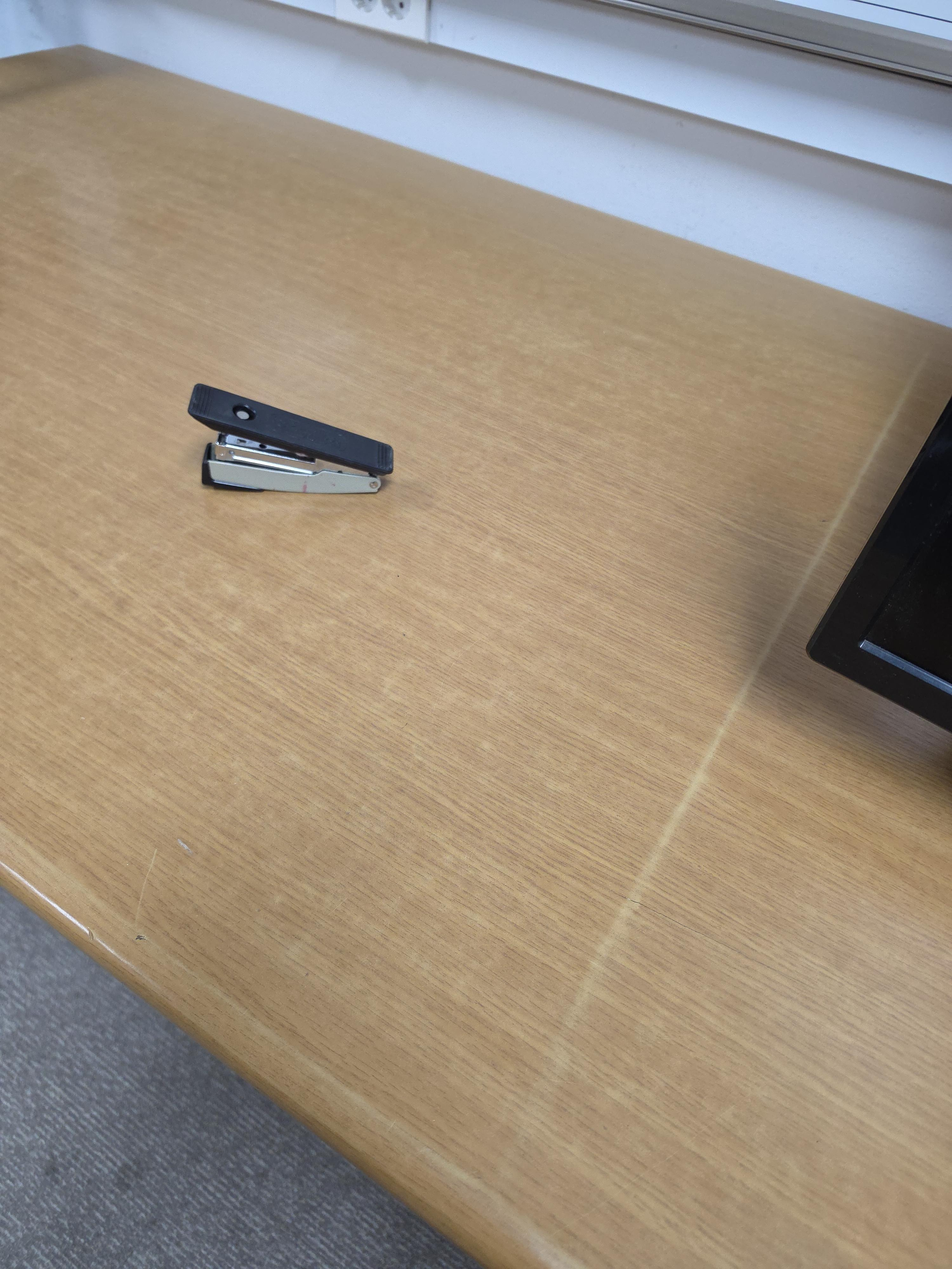stapler: (187, 384, 393, 496)
